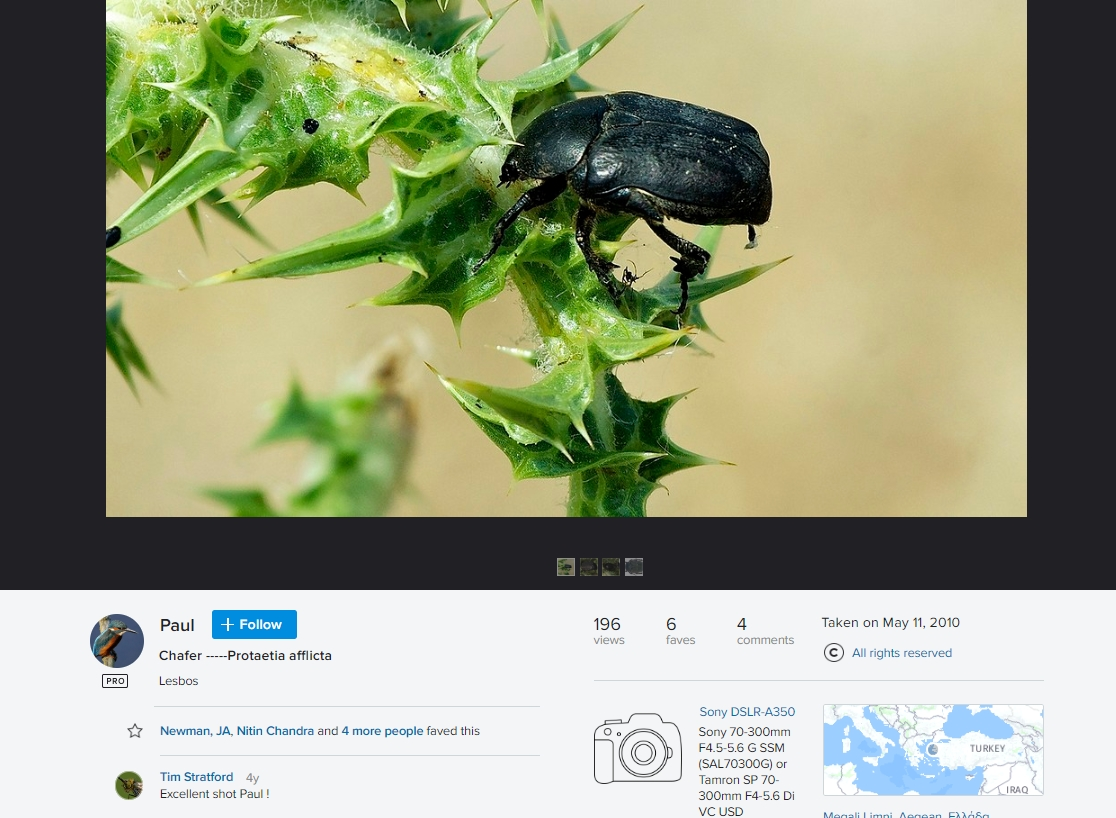Protaetia_afflicta: (484, 89, 775, 318)
